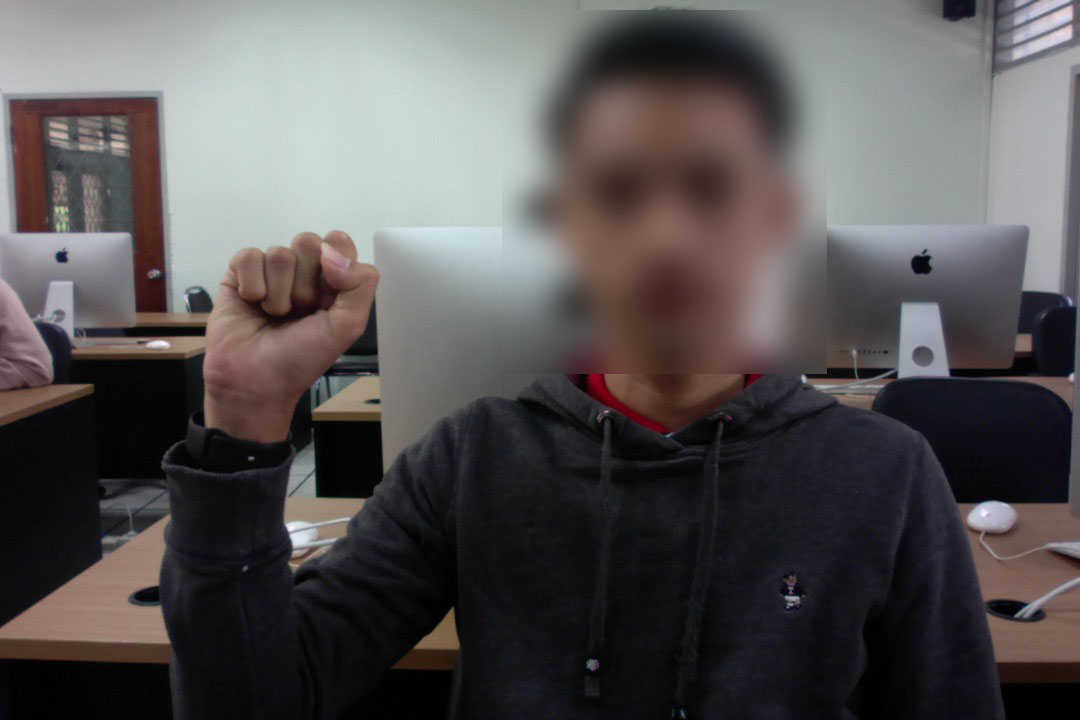sor: (193, 225, 383, 409)
